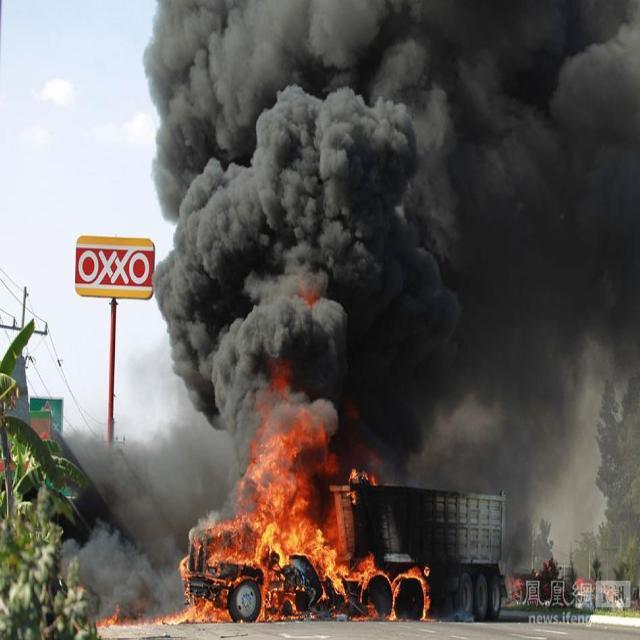Fire: (179, 424, 435, 618)
Smoke: (149, 0, 640, 440), (58, 428, 240, 606)
